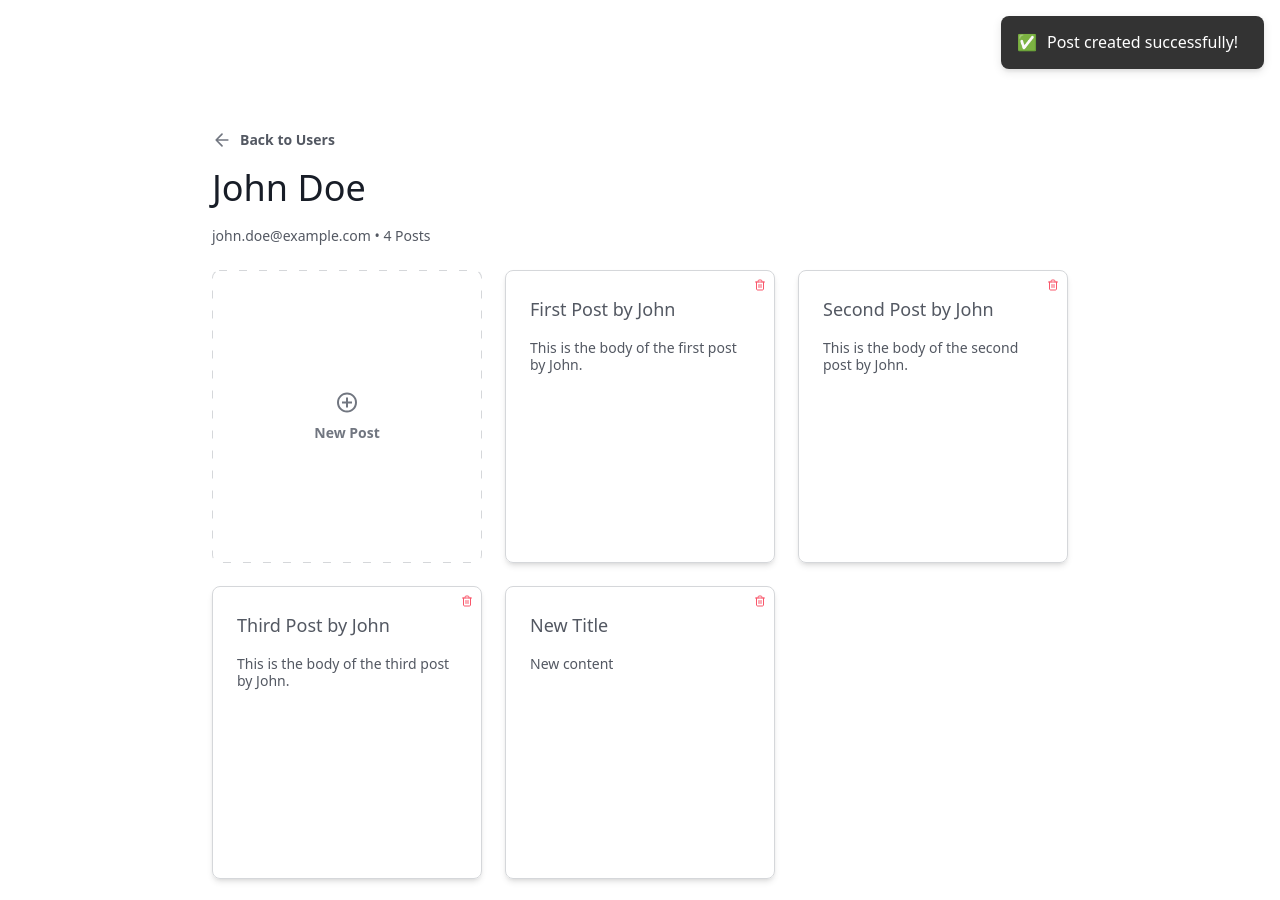
Test case: PostManager › should handle post deletion
The width and height of the screenshot is (1280, 900).
expect the text "First Post by John" is shown: met, box [530,297,675,321]
What coordinates should you click on to do the following:
click the button named "delete-post-1"
I would click on:
 (760, 285)
Its box is [754,279,766,291].
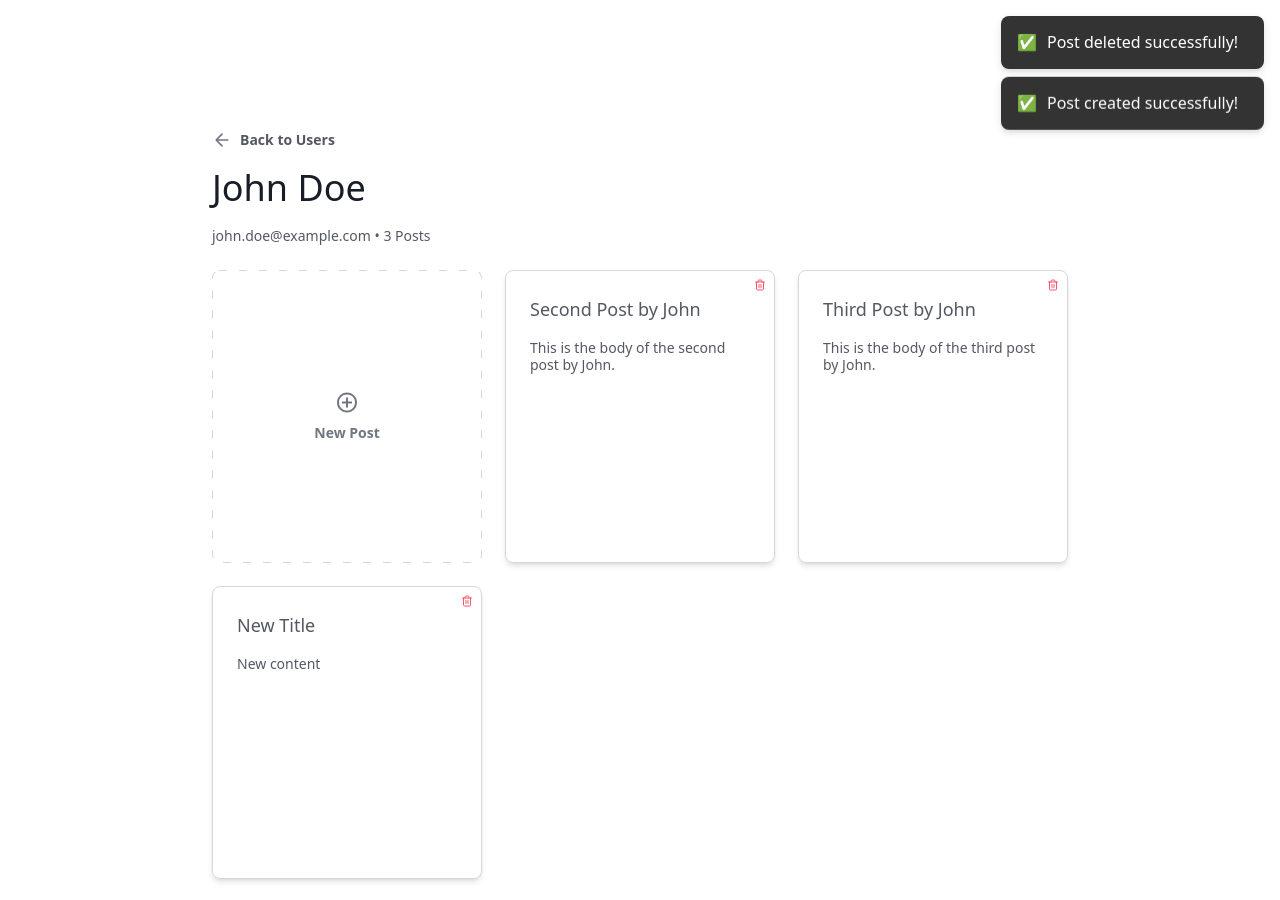
expect the text "First Post by John" is gone: met
